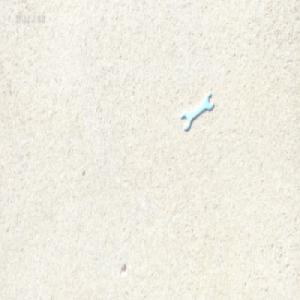Wrench: (179, 94, 211, 130)
